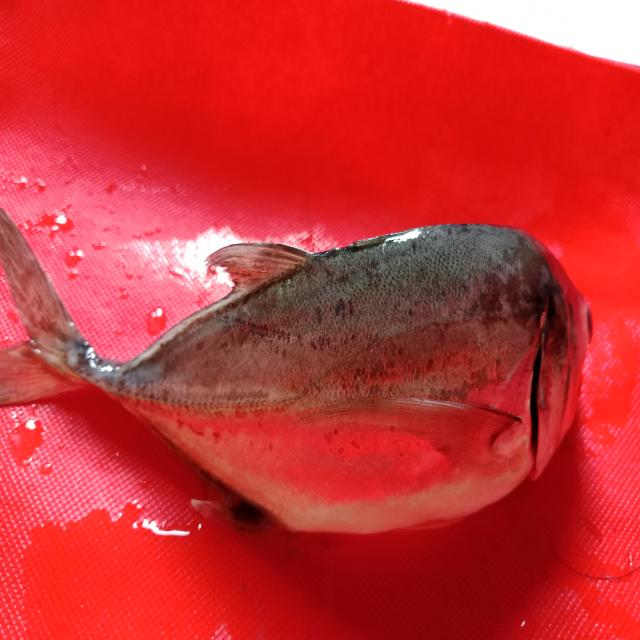ikan: (12, 182, 612, 573)
